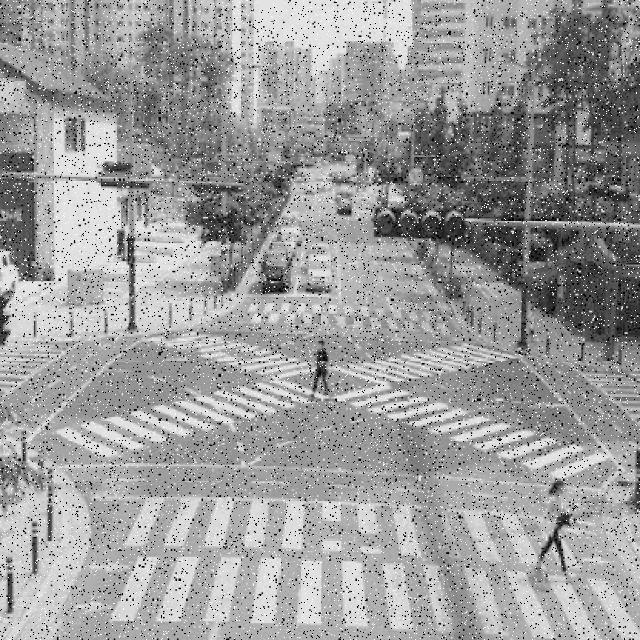crosswalk: (117, 482, 639, 639), (49, 345, 611, 483), (225, 294, 493, 342), (574, 350, 638, 453), (0, 332, 72, 407)
